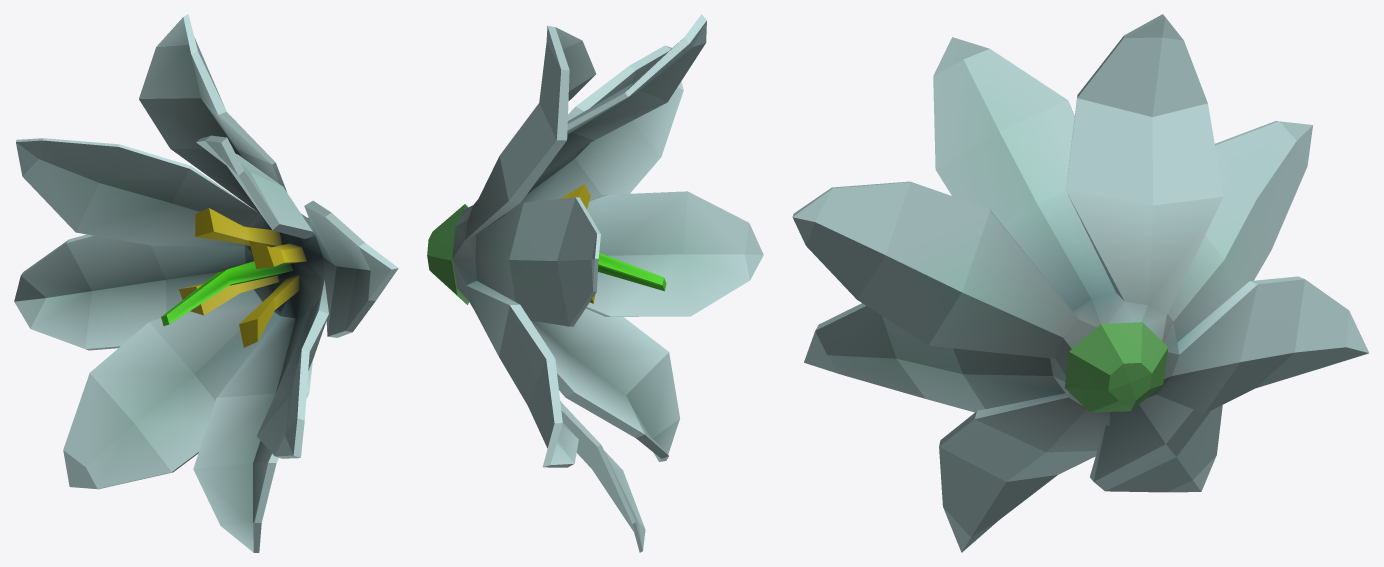
The model's file is lilia_main.glb.
The picture shows the model from 3 angles, left to right: view 1: azimuth 30°, elevation 25°; view 2: azimuth 150°, elevation 25°; view 3: azimuth 270°, elevation 25°; orthographic projection. The views are drawn at different scales.
Parts seen in each view (by area): view 1: ilia_main; view 2: ilia_main; view 3: ilia_main.
Boxes of the visible parts, x1,y1,x2,y2 form: ilia_main: (14,14,398,552); ilia_main: (427,14,763,552); ilia_main: (792,14,1368,552).
Bounding box in the file's own units: 0.2136 × 0.4034 × 0.3866.
